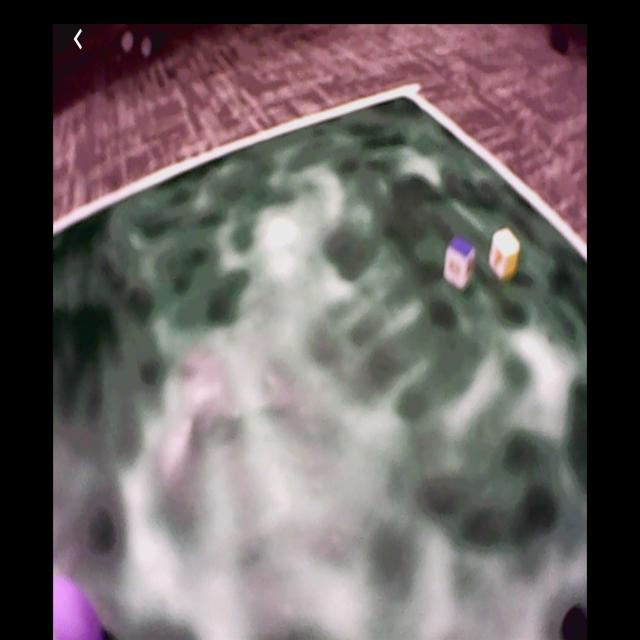ball: (56, 569, 102, 640)
